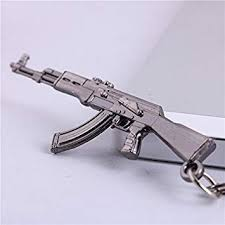gun: (9, 49, 215, 166)
